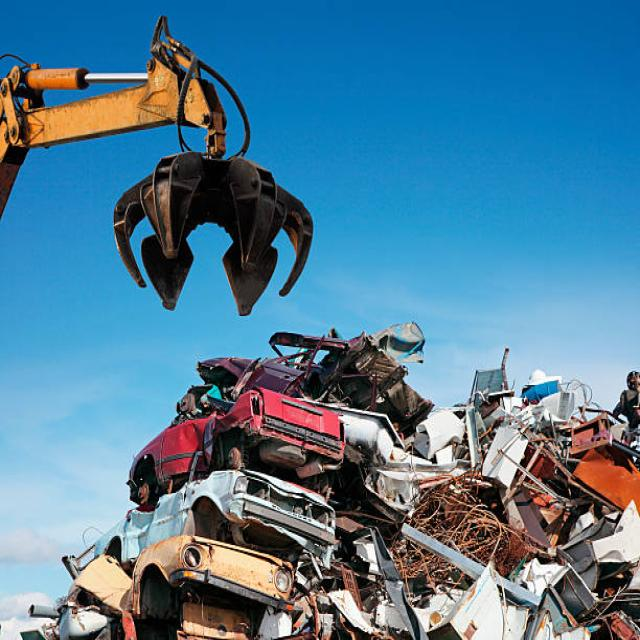metal: (195, 356, 621, 626)
